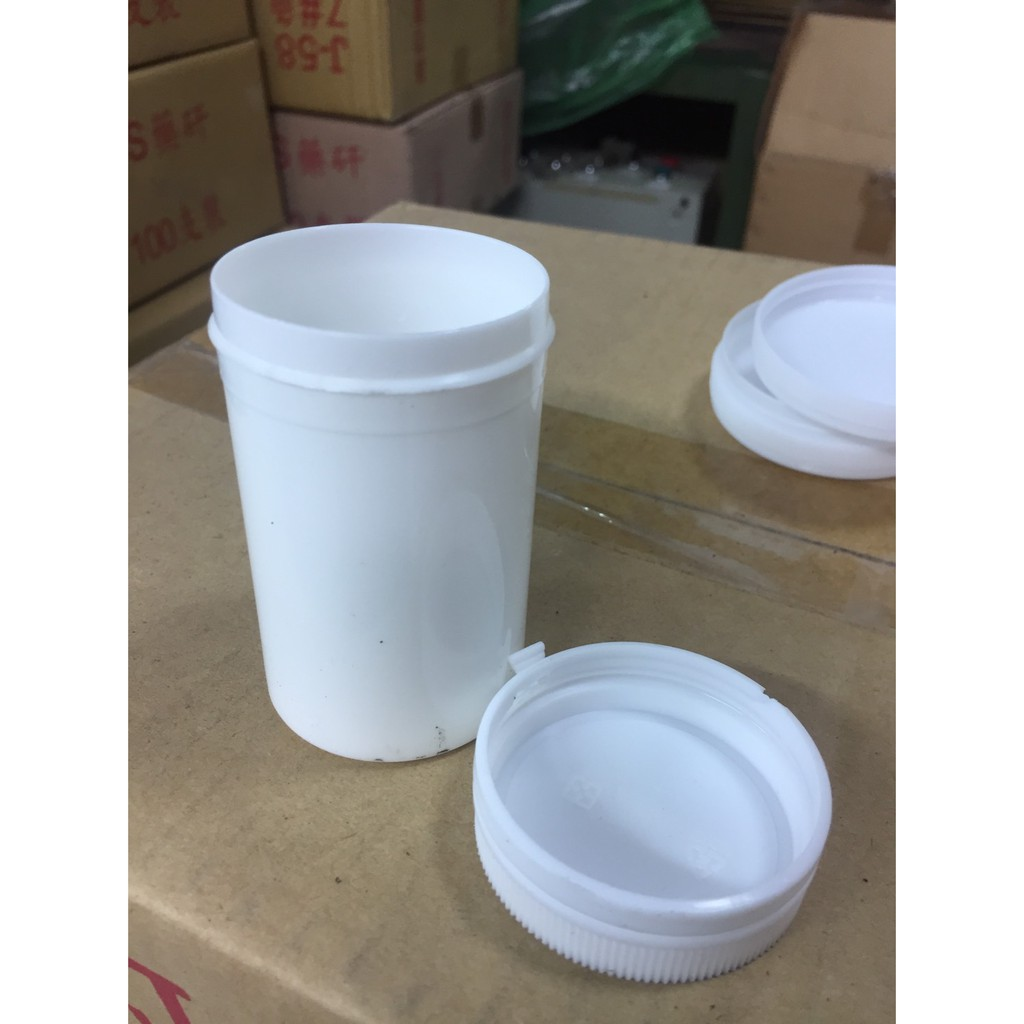medicinejar: (204, 223, 840, 973)
